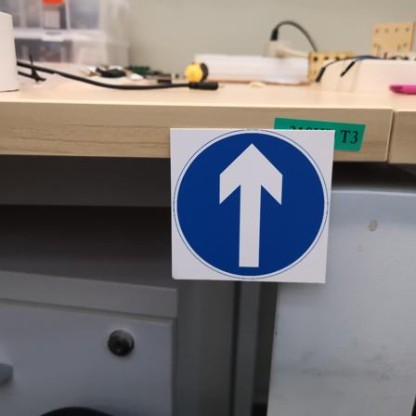forward: (168, 122, 332, 286)
